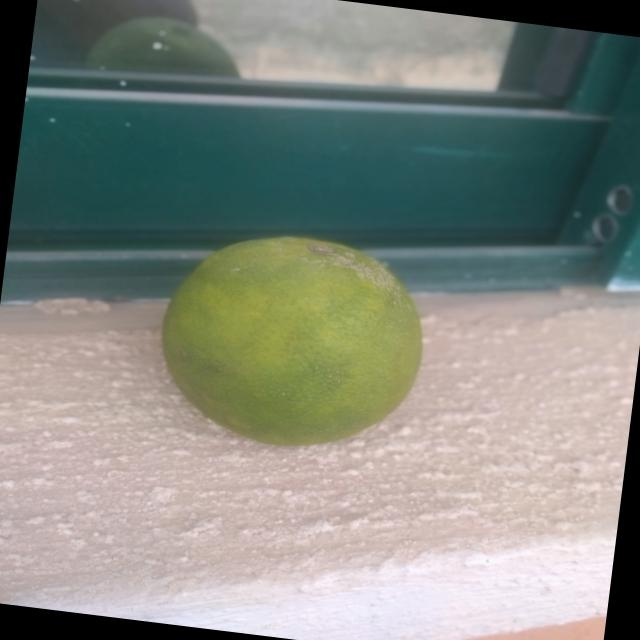agrume: (131, 205, 469, 498)
